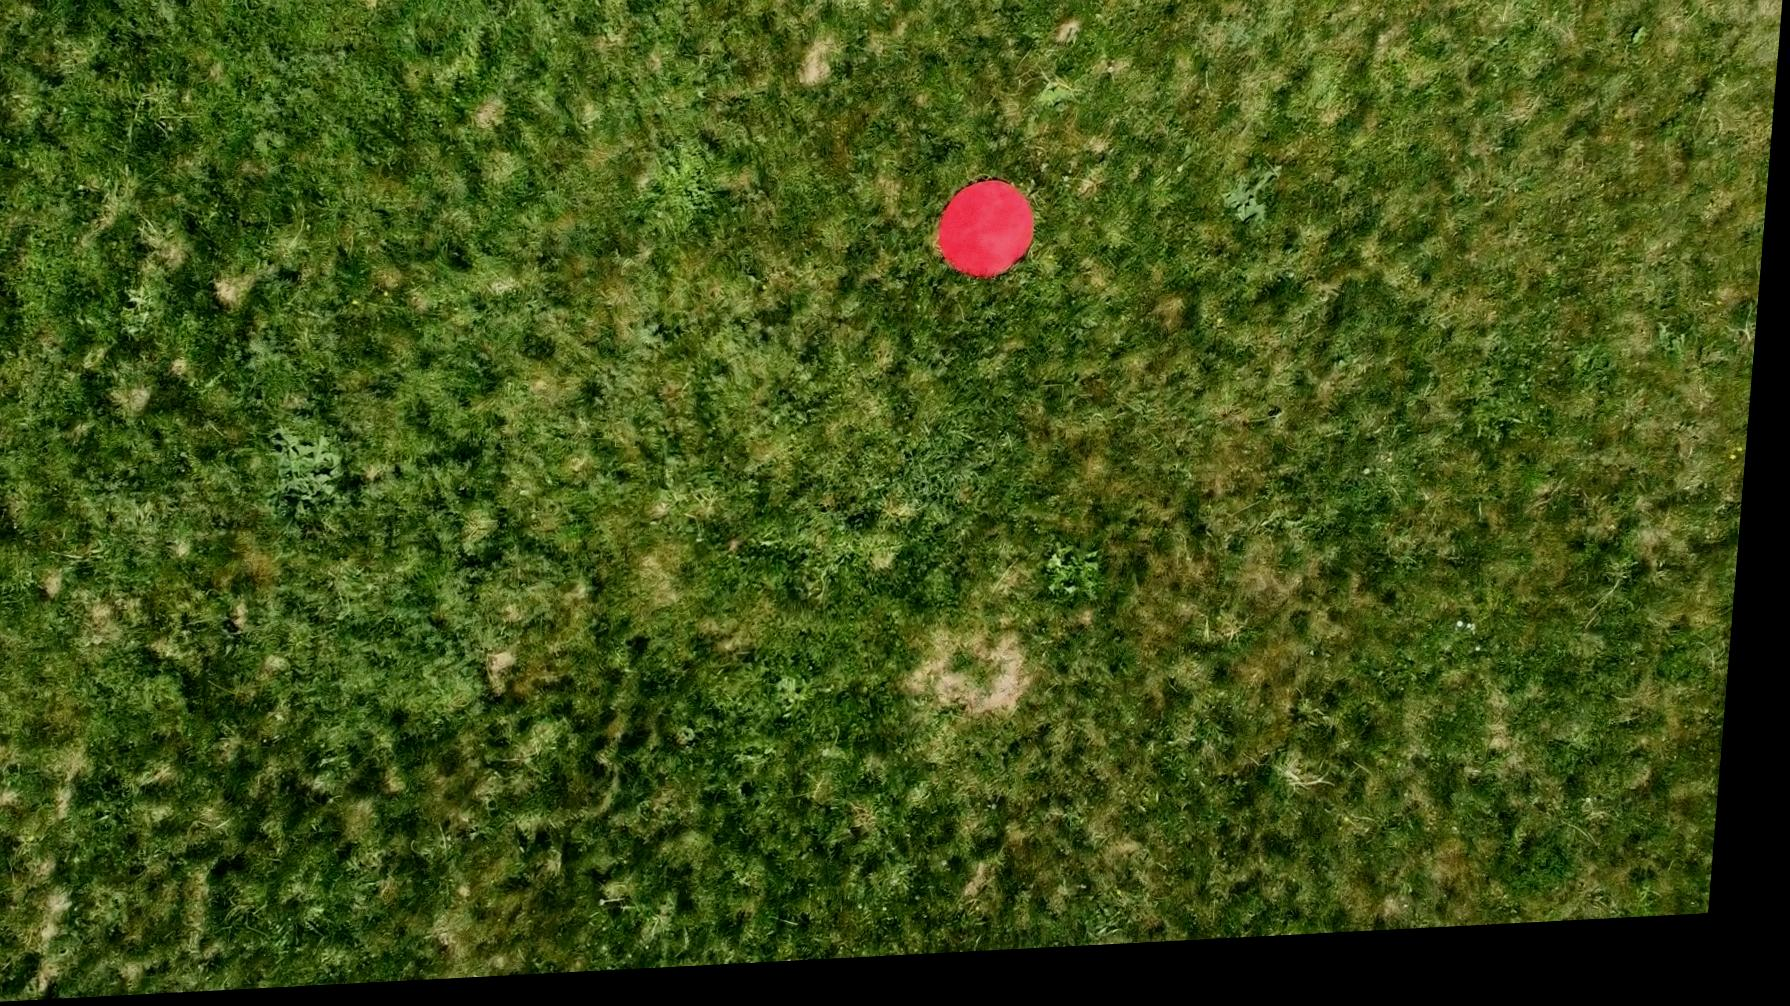Red: (936, 186, 1045, 295)
